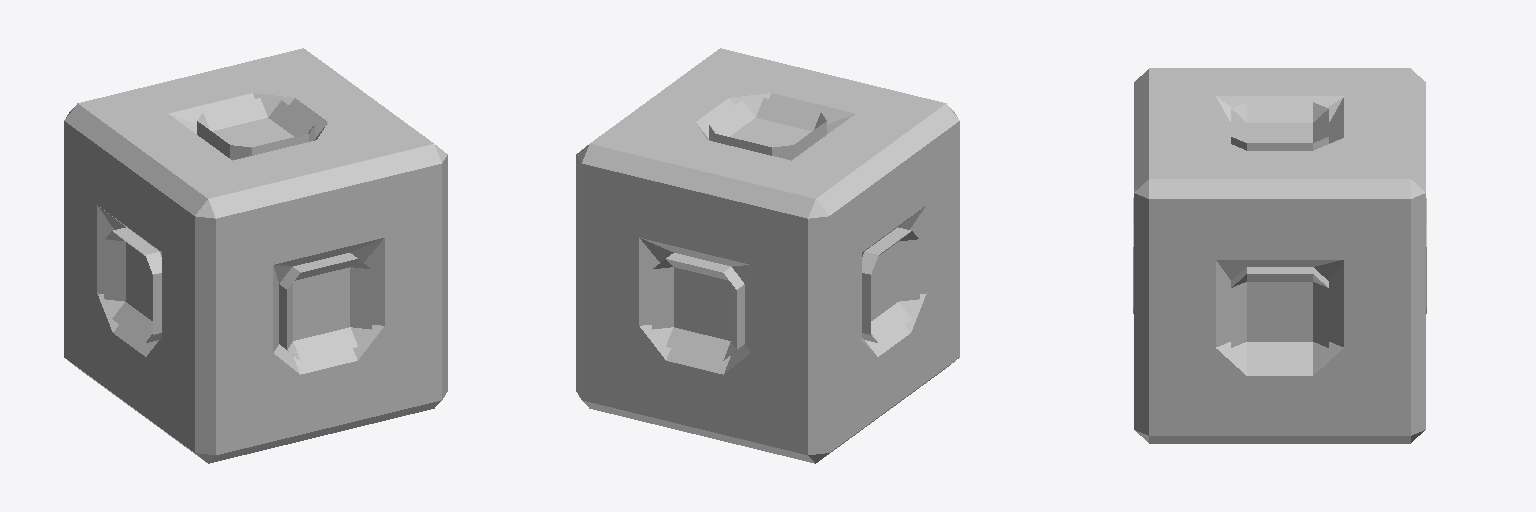
File: NormalBlock1.obj
3 views of the same model, side by side, from view 1: azimuth 30°, elevation 25°; view 2: azimuth 150°, elevation 25°; view 3: azimuth 270°, elevation 25° (orthographic).
Parts seen in each view (by area): view 1: 立方体; view 2: 立方体; view 3: 立方体.
Part boxes in pixels (x1,y1,x2,y2): 立方体: (64,48,447,463); 立方体: (576,48,959,463); 立方体: (1133,68,1426,443).
Bounding box in the file's own units: 2.01 × 2.01 × 2.01.